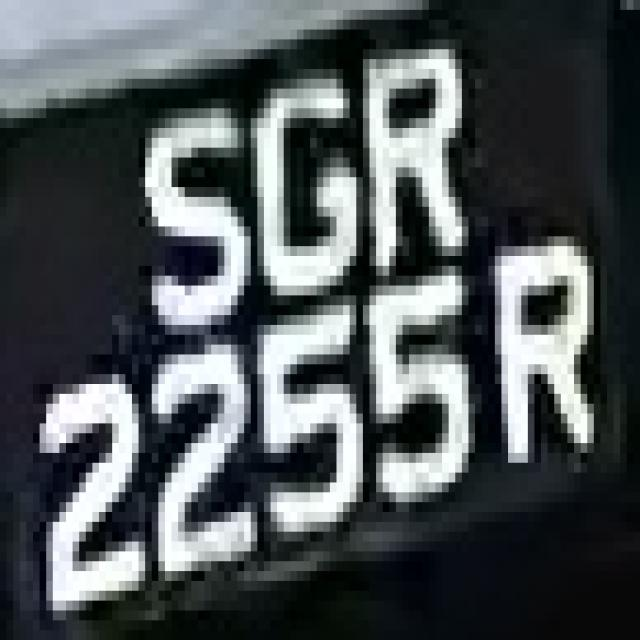2: (20, 394, 158, 620), (145, 344, 257, 590)
5: (363, 276, 495, 542), (250, 305, 370, 522)
G: (244, 79, 356, 325)
R: (349, 19, 482, 276), (475, 236, 600, 473)
S: (125, 88, 238, 334)
